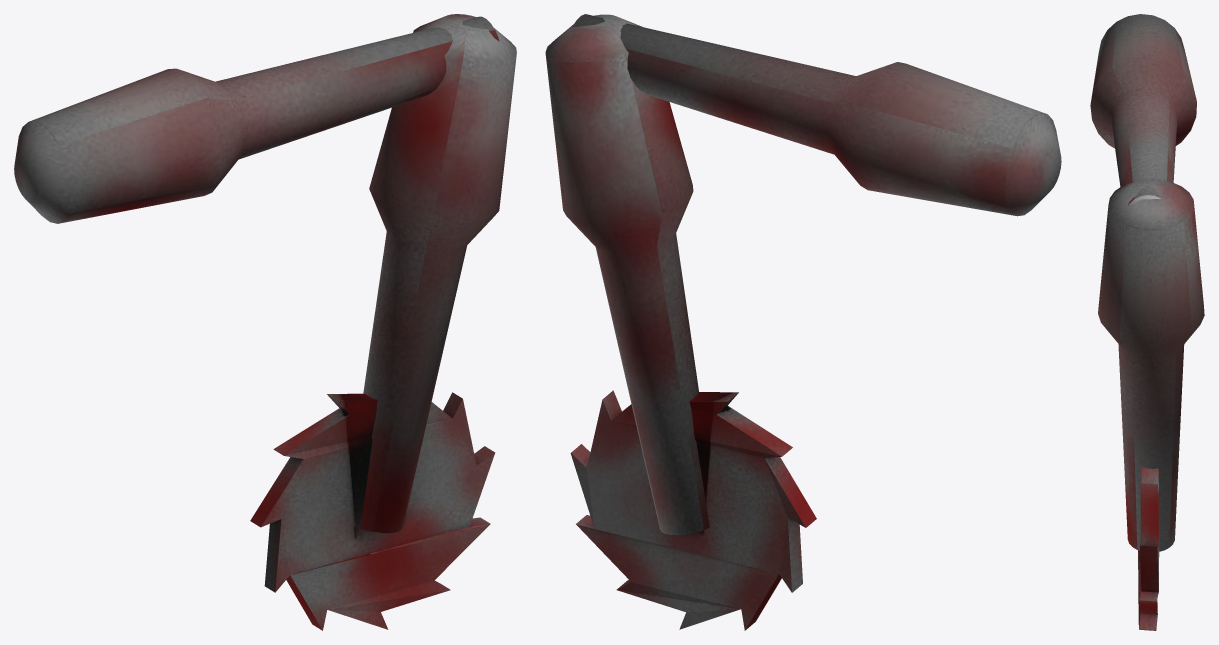
The model's file is arm.obj.
3 renders of one model, left to right at view 1: azimuth 30°, elevation 25°; view 2: azimuth 150°, elevation 25°; view 3: azimuth 270°, elevation 25°, orthographic. The views are drawn at different scales.
Visible parts, largest first — view 1: arm1, arm2, saw.002; view 2: arm2, arm1, saw.002; view 3: arm2, arm1, saw.002.
Boxes of the visible parts, x1,y1,x2,y2 form: arm1: [14, 16, 499, 223]; arm2: [360, 14, 516, 533]; saw.002: [250, 392, 495, 630]; arm2: [545, 14, 709, 534]; arm1: [572, 14, 1061, 216]; saw.002: [570, 390, 816, 630]; arm2: [1098, 178, 1204, 551]; arm1: [1090, 14, 1196, 206]; saw.002: [1138, 467, 1159, 630].
Bounding box in the file's own units: 2.03 × 2.39 × 0.5063.
